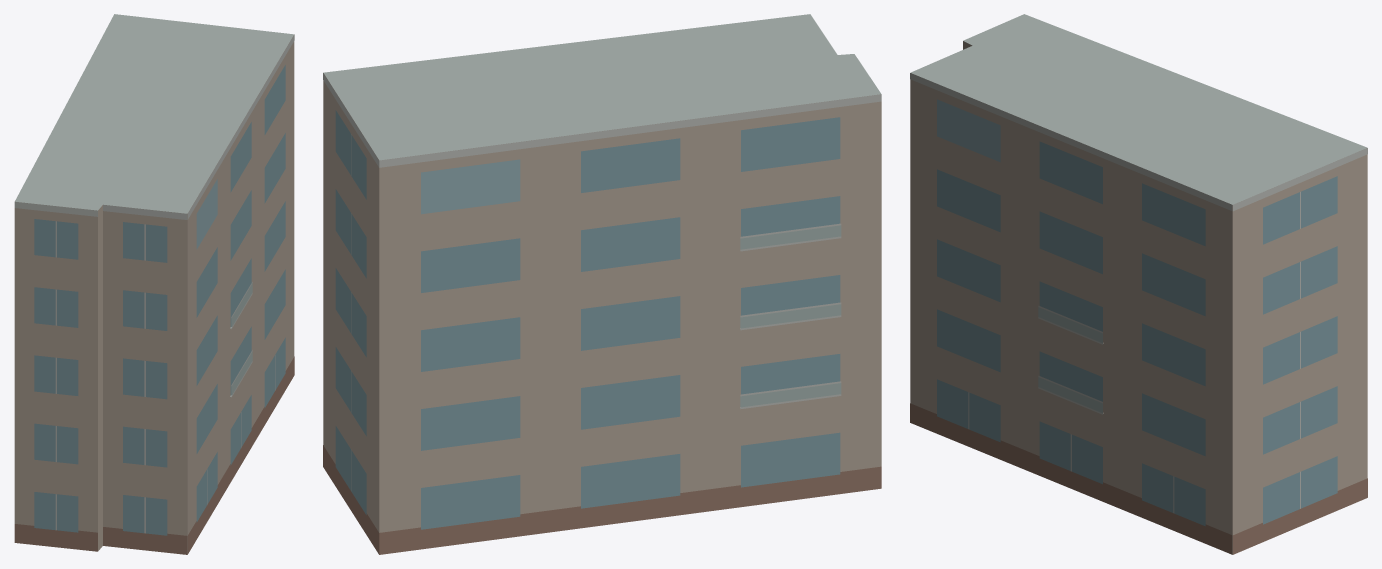
The model's file is survey-upis-32720588.glb.
The picture shows the model from 3 angles, left to right: view 1: azimuth 30°, elevation 25°; view 2: azimuth 150°, elevation 25°; view 3: azimuth 270°, elevation 25°; orthographic projection. The views are drawn at different scales.
Parts seen in each view (by area): view 1: survey-upis-32720588.tmp; view 2: survey-upis-32720588.tmp; view 3: survey-upis-32720588.tmp.
Boxes of the visible parts, x1,y1,x2,y2 form: survey-upis-32720588.tmp: (14,14,294,554); survey-upis-32720588.tmp: (323,14,881,554); survey-upis-32720588.tmp: (910,14,1367,554).
Bounding box in the file's own units: 15.33 × 13.1 × 15.53.
